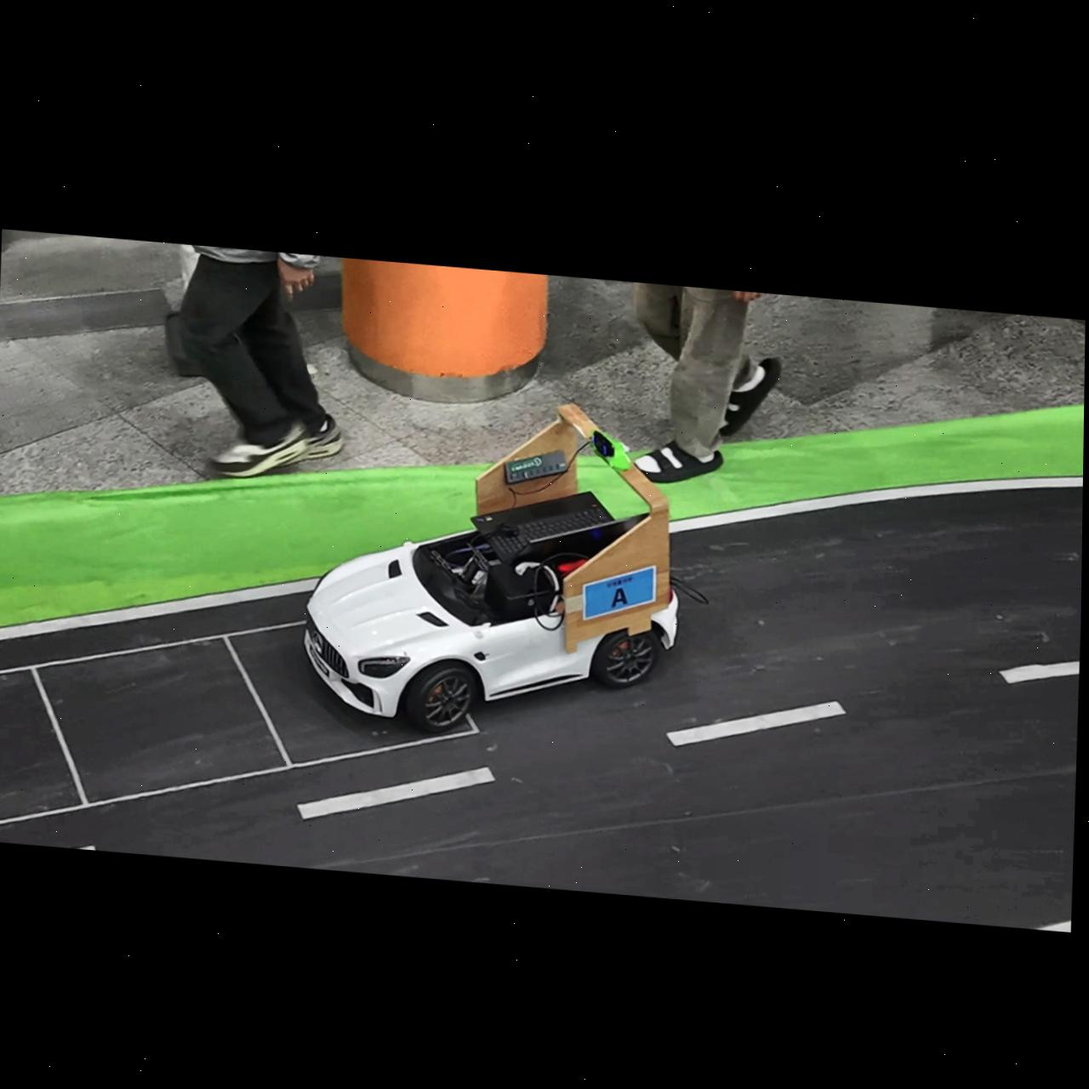broken_line: (297, 767, 496, 819), (666, 701, 846, 746), (998, 661, 1079, 684), (77, 845, 96, 850)
